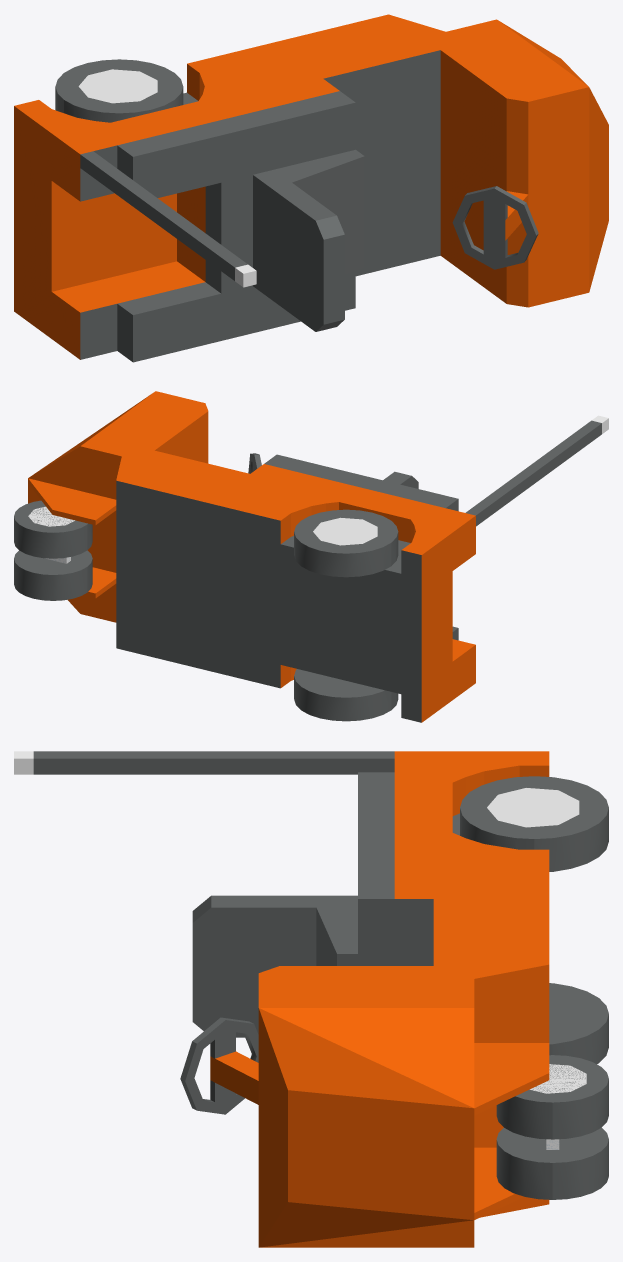
Rendered from tractor_3.dae.
3 renders of one model, top to bottom at view 1: azimuth 30°, elevation 25°; view 2: azimuth 150°, elevation 25°; view 3: azimuth 270°, elevation 25°, orthographic. The views are drawn at different scales.
Visible parts, largest first — view 1: coords_ME_ID42_MA_material_3, coords_ME_ID34_MA_material_2, coords_ME_ID84_MA_material, coords_ME_ID50_MA_material_4, coords_ME_ID106_MA_material_8; view 2: coords_ME_ID78_MA_material_2, coords_ME_ID42_MA_material_3, coords_ME_ID34_MA_material_2, coords_ME_ID84_MA_material, coords_ME_ID90_MA_material, coords_ME_ID12_MA_material, coords_ME_ID4_MA_material, coords_ME_ID106_MA_material_8, coords_ME_ID18_MA_material_0; view 3: coords_ME_ID42_MA_material_3, coords_ME_ID34_MA_material_2, coords_ME_ID84_MA_material, coords_ME_ID12_MA_material, coords_ME_ID4_MA_material, coords_ME_ID90_MA_material, coords_ME_ID50_MA_material_4, coords_ME_ID106_MA_material_8, coords_ME_ID18_MA_material_0.
Part boxes in pixels (x1,y1,x2,y2): coords_ME_ID42_MA_material_3: [14, 14, 608, 359]; coords_ME_ID34_MA_material_2: [80, 50, 440, 362]; coords_ME_ID84_MA_material: [55, 59, 183, 122]; coords_ME_ID50_MA_material_4: [452, 186, 538, 269]; coords_ME_ID106_MA_material_8: [78, 69, 157, 103]; coords_ME_ID78_MA_material_2: [116, 480, 421, 722]; coords_ME_ID42_MA_material_3: [28, 391, 475, 722]; coords_ME_ID34_MA_material_2: [264, 420, 601, 640]; coords_ME_ID84_MA_material: [294, 509, 398, 577]; coords_ME_ID90_MA_material: [294, 669, 398, 721]; coords_ME_ID12_MA_material: [14, 550, 92, 600]; coords_ME_ID4_MA_material: [14, 500, 92, 558]; coords_ME_ID106_MA_material_8: [313, 517, 377, 545]; coords_ME_ID18_MA_material_0: [28, 506, 74, 526]; coords_ME_ID42_MA_material_3: [210, 751, 549, 1247]; coords_ME_ID34_MA_material_2: [33, 751, 433, 1037]; coords_ME_ID84_MA_material: [460, 776, 608, 871]; coords_ME_ID12_MA_material: [496, 1127, 608, 1199]; coords_ME_ID4_MA_material: [496, 1055, 608, 1139]; coords_ME_ID90_MA_material: [549, 983, 608, 1064]; coords_ME_ID50_MA_material_4: [180, 1017, 258, 1114]; coords_ME_ID106_MA_material_8: [487, 788, 579, 827]; coords_ME_ID18_MA_material_0: [530, 1064, 586, 1093].
Size of the model in its own units: 24.53 by 9.36 by 21.05.
